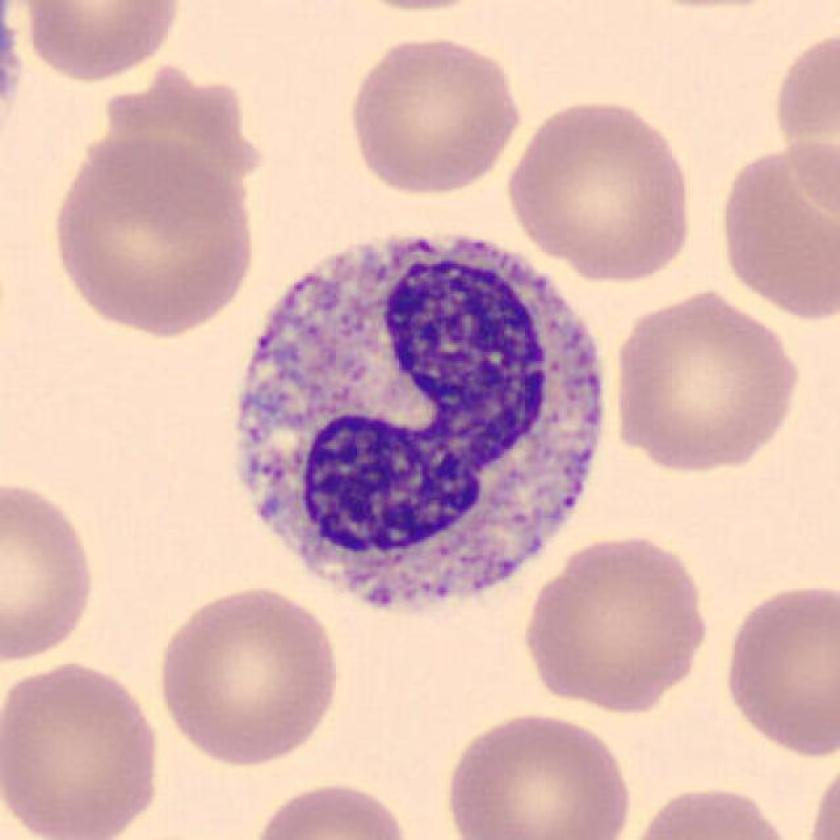neutrophil: (240, 239, 602, 617)
